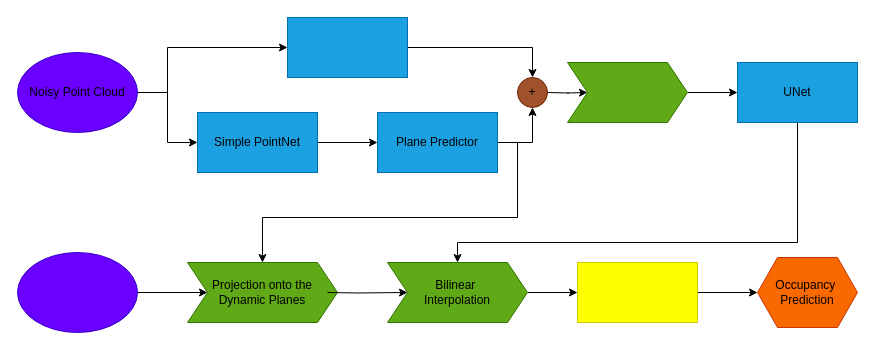
Some shapes in this 875 by 350 pixel diagram are drawn without their labels. The shapes that lost their labels are listed below. From the top down, each one's box as (x1, y1, x2, y2) in pixels, then its label:
(286, 16, 408, 78): ResNet PointNet
(566, 62, 688, 122): Feature Projection
(16, 252, 138, 332): Sampled Cloud
(576, 262, 698, 322): Decoder
